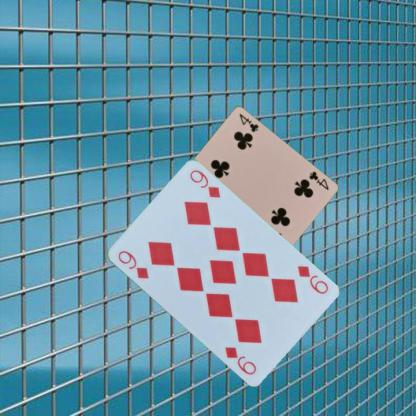4c: (306, 169, 330, 191)
9d: (294, 262, 329, 296), (115, 248, 150, 280)
